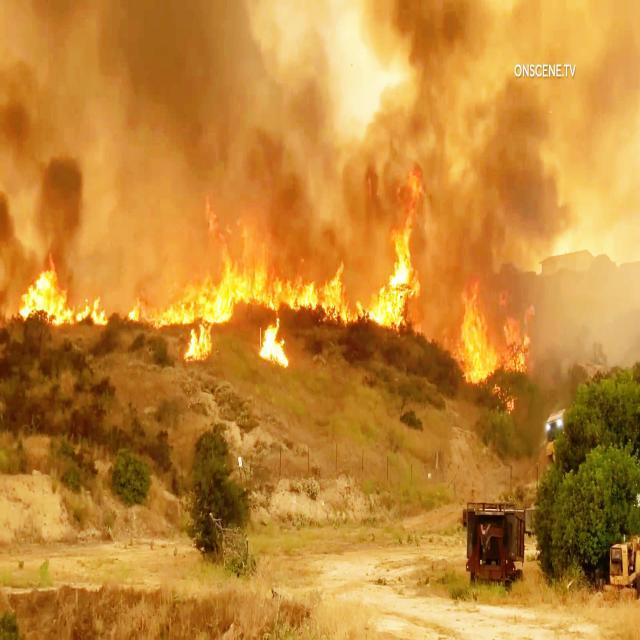Fire: (135, 248, 228, 362), (206, 210, 286, 312), (368, 187, 418, 338), (18, 249, 102, 330), (456, 282, 520, 384), (287, 262, 350, 318)
Smoke: (116, 20, 303, 194), (472, 96, 556, 265)
